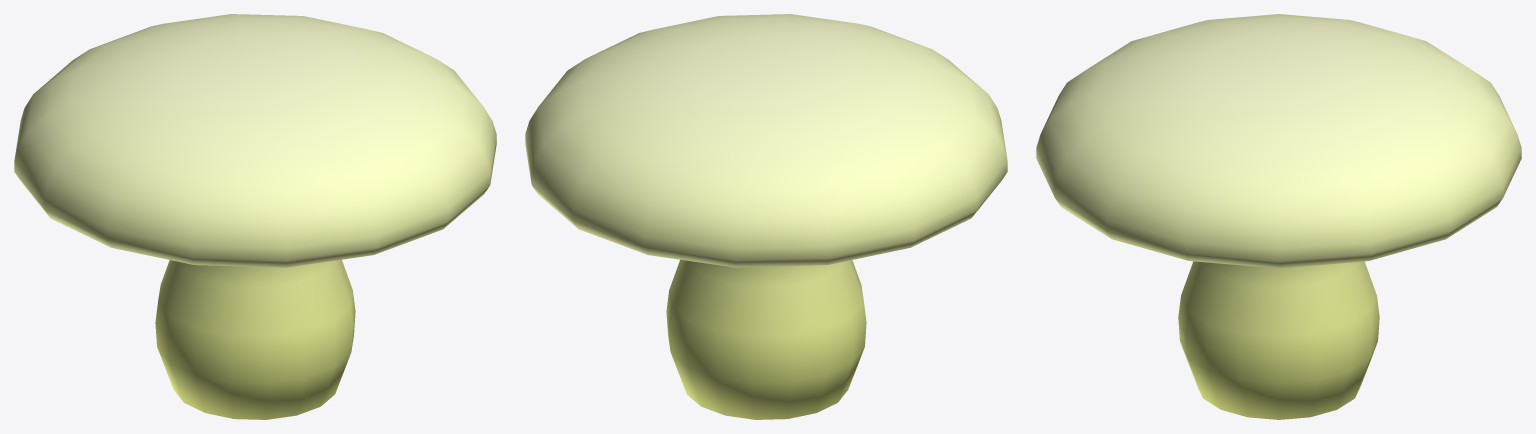
Rendered from Farm_Crop_Mashroom_01.fbx.
The picture shows the model from 3 angles, left to right: view 1: azimuth 30°, elevation 25°; view 2: azimuth 150°, elevation 25°; view 3: azimuth 270°, elevation 25°; orthographic projection.
Parts seen in each view (by area): view 1: Farm_Crop_Mashroom_01; view 2: Farm_Crop_Mashroom_01; view 3: Farm_Crop_Mashroom_01.
Part boxes in pixels (x1,y1,x2,y2): Farm_Crop_Mashroom_01: [14, 14, 496, 419]; Farm_Crop_Mashroom_01: [525, 14, 1007, 419]; Farm_Crop_Mashroom_01: [1036, 14, 1521, 419].
Bounding box in the file's own units: 57.54 × 41.91 × 57.54.
